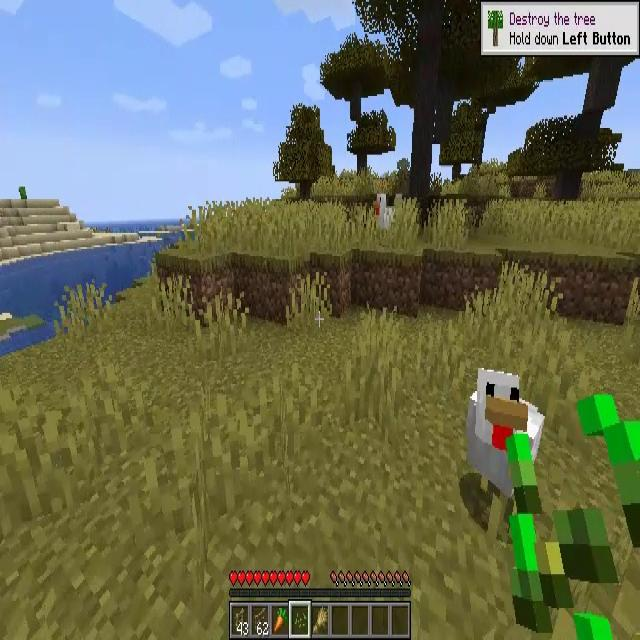duck: (467, 368, 542, 509), (374, 194, 394, 233)
